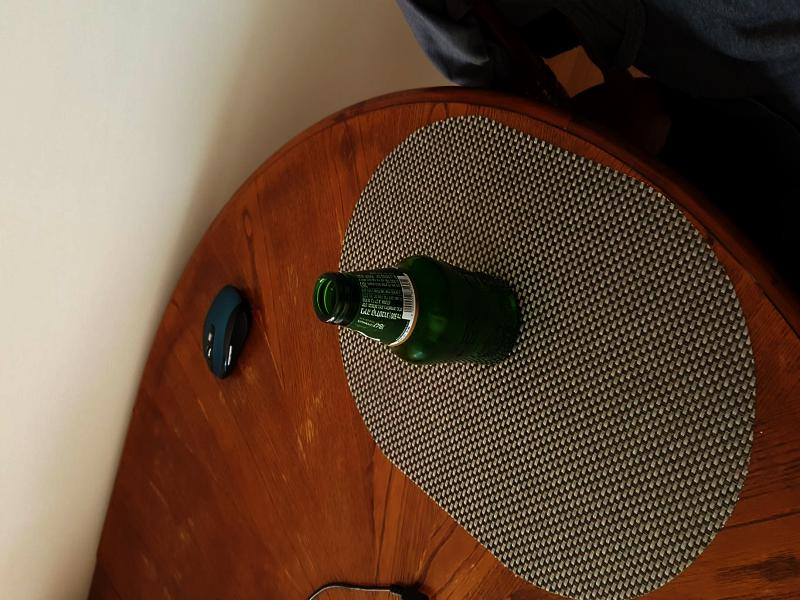Beer: (312, 252, 520, 369)
